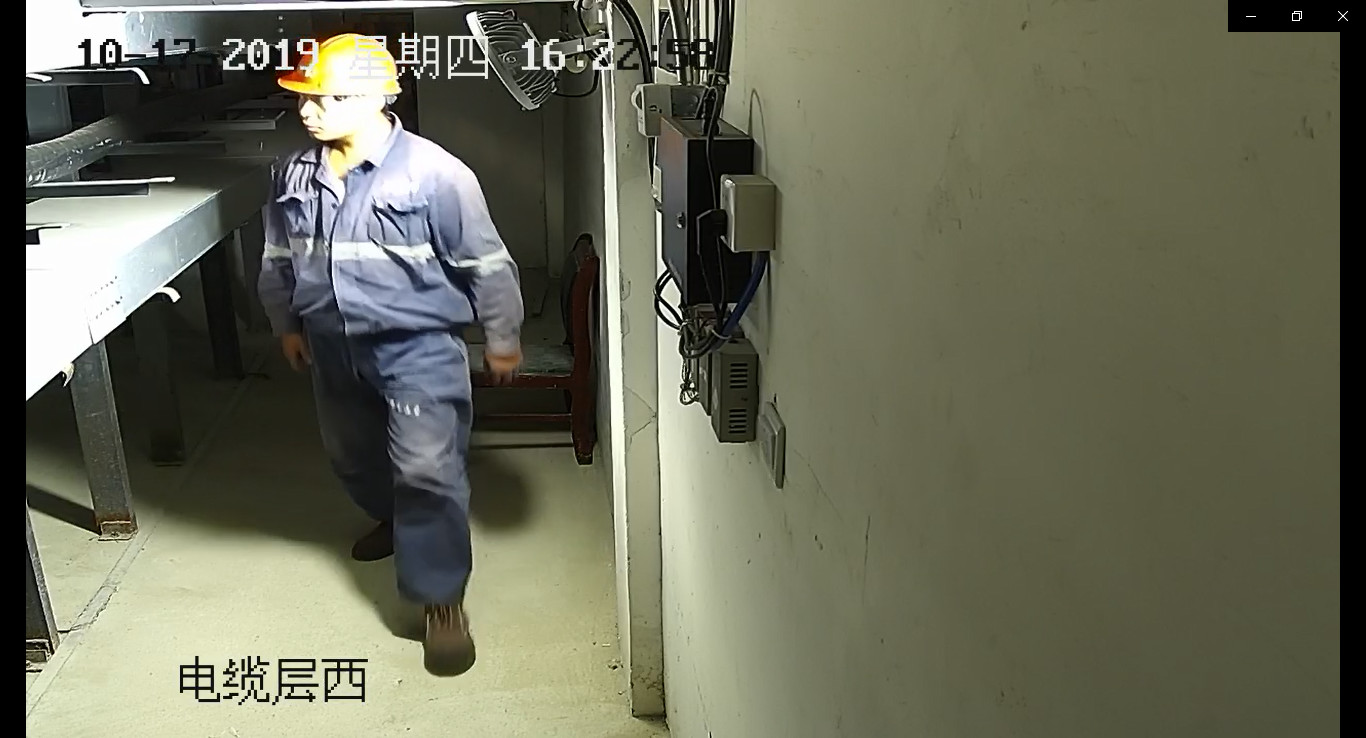helmet: (277, 33, 402, 97)
